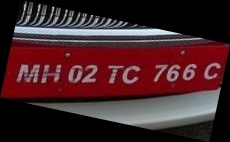character: (15, 63, 40, 83), (40, 63, 61, 83), (120, 64, 140, 84), (80, 63, 98, 83), (106, 64, 123, 84), (203, 61, 221, 79), (67, 63, 82, 83), (152, 62, 167, 82), (181, 62, 197, 80), (165, 63, 180, 82)
